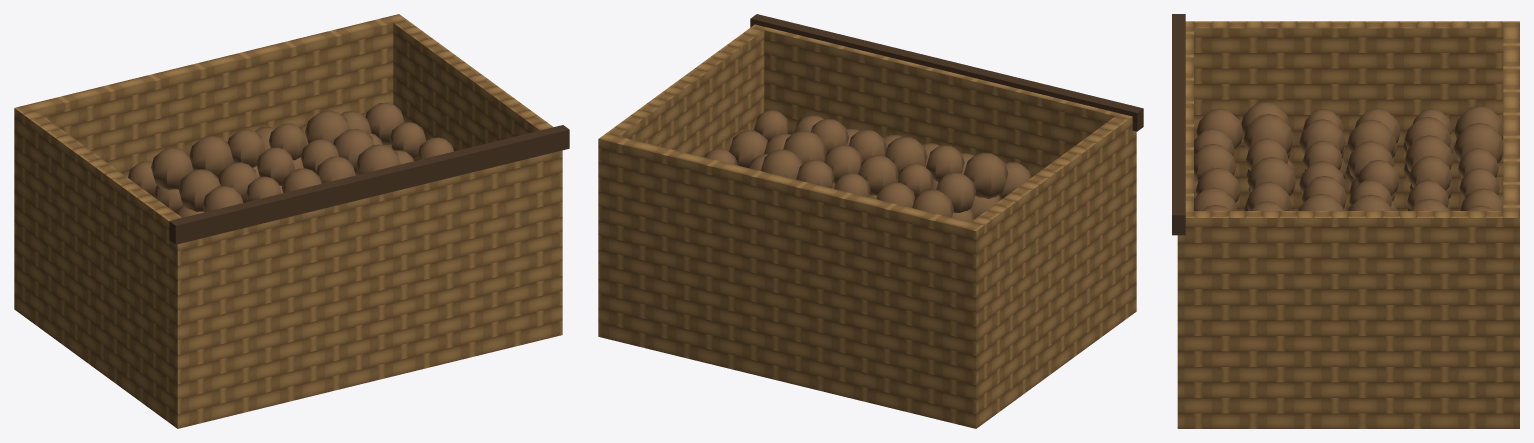
File: tpl_dispensa_cesto_noci.glb
3 views of the same model, side by side, from view 1: azimuth 30°, elevation 25°; view 2: azimuth 150°, elevation 25°; view 3: azimuth 270°, elevation 25° (orthographic). The views are drawn at different scales.
Visible parts, largest first — view 1: tpl_dispensa_cesto_noci; view 2: tpl_dispensa_cesto_noci; view 3: tpl_dispensa_cesto_noci.
Part boxes in pixels (x1,y1,x2,y2): tpl_dispensa_cesto_noci: [14, 14, 569, 428]; tpl_dispensa_cesto_noci: [598, 14, 1143, 428]; tpl_dispensa_cesto_noci: [1172, 14, 1519, 428].
Size of the model in its own units: 0.348 by 0.174 by 0.254.
Materials: 3 (1 with a texture image).
